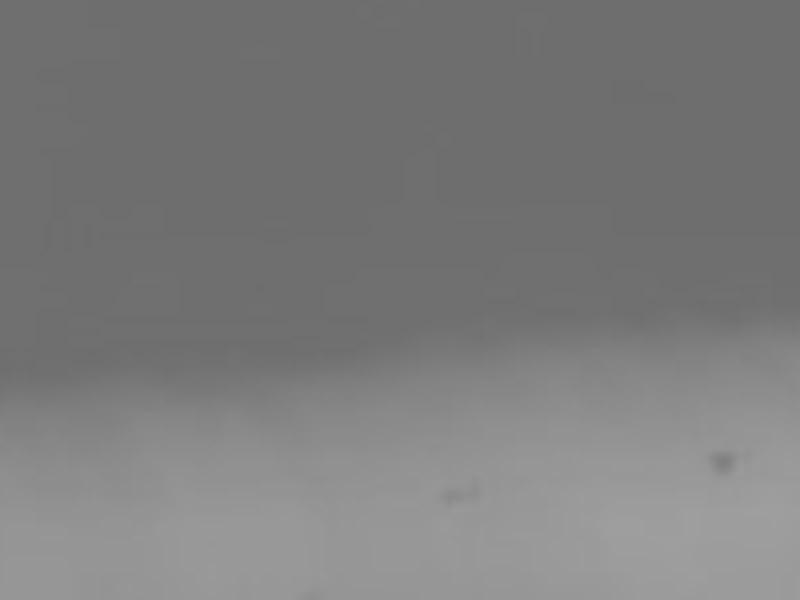defect: (442, 486, 481, 510), (713, 450, 739, 475)
